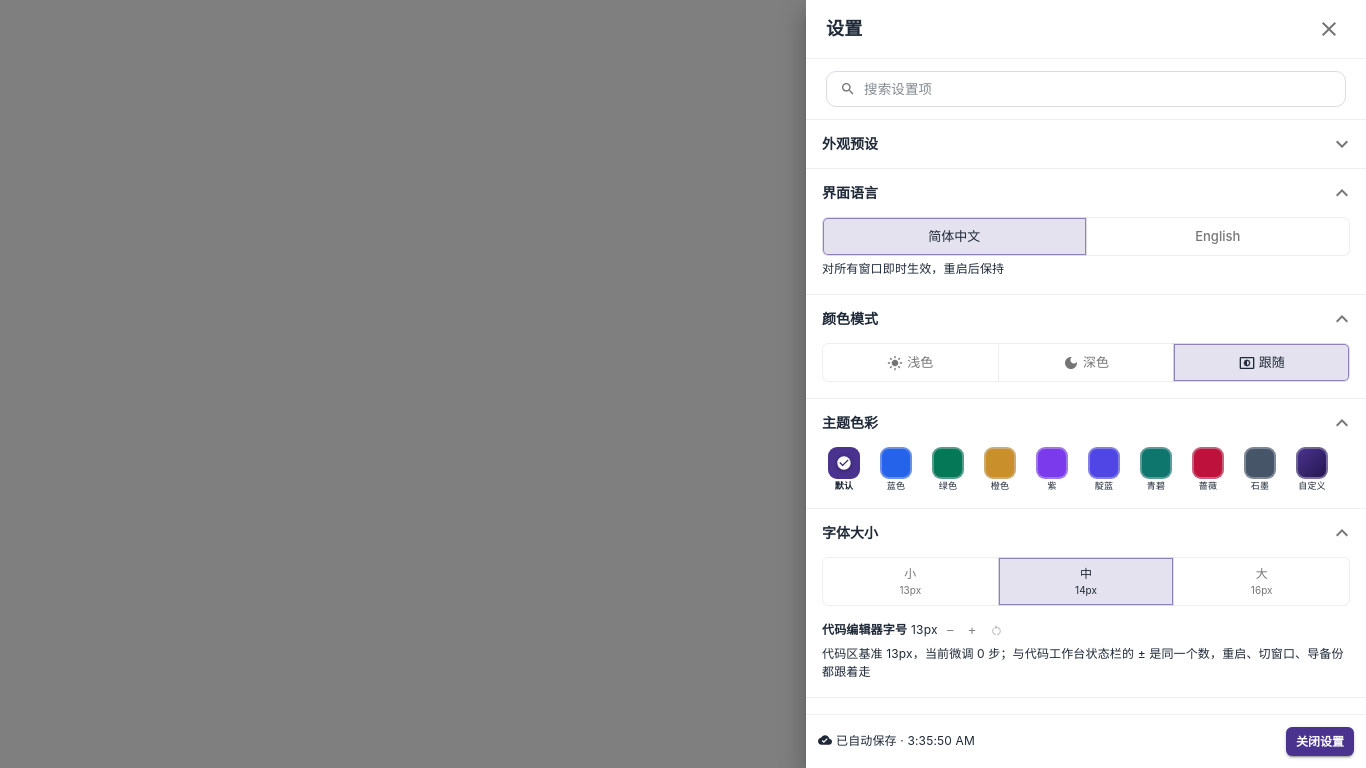
外观预设面板 · 名称与应用 › 中文环境下渲染出全部 12 套预设名称（无裸 key）
Click the button with test id "appearance-preset-summary" at (850, 144), box [806, 120, 1365, 168]
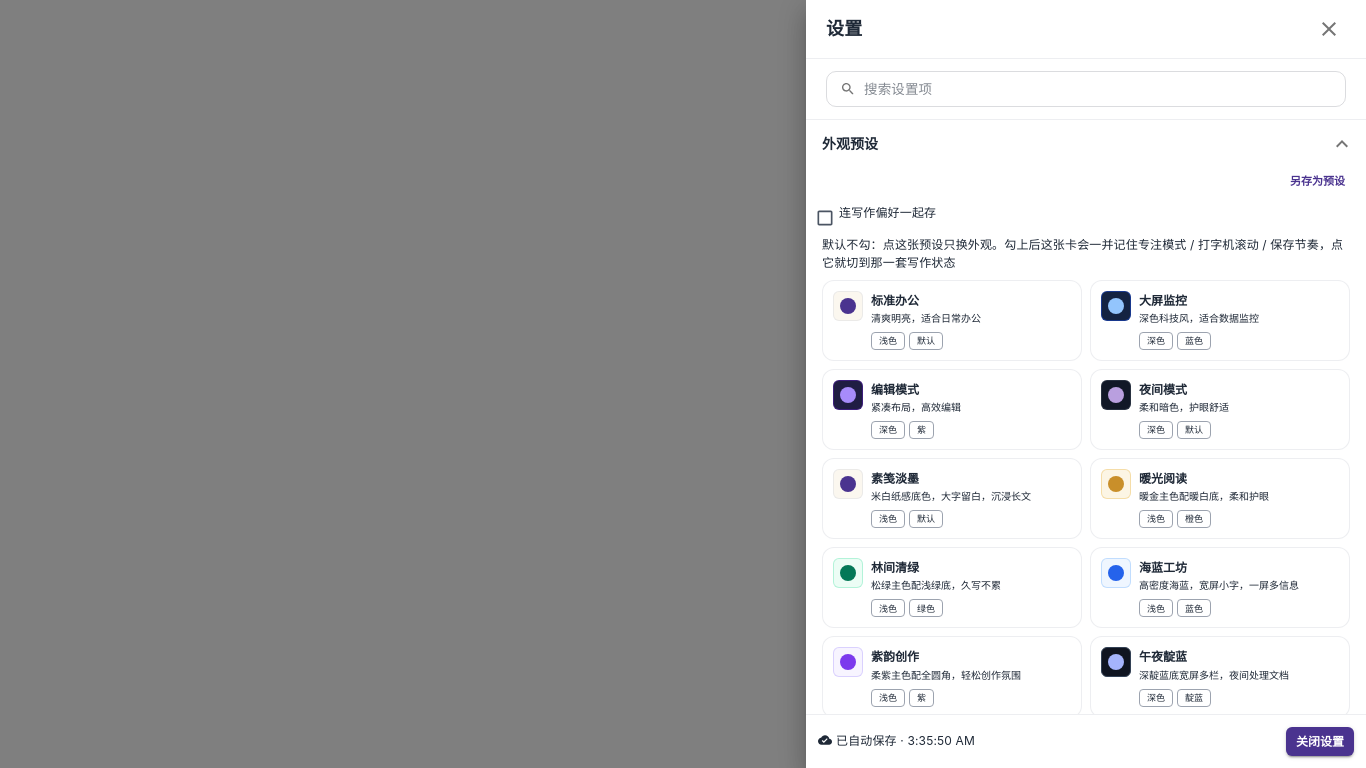
Result: the button with test id "appearance-preset-summary" is expanded at [806, 120, 1365, 168]
Result: the text "标准办公" is shown at [871, 291, 919, 310]
Result: the text "大屏监控" is shown at [1139, 291, 1187, 310]
